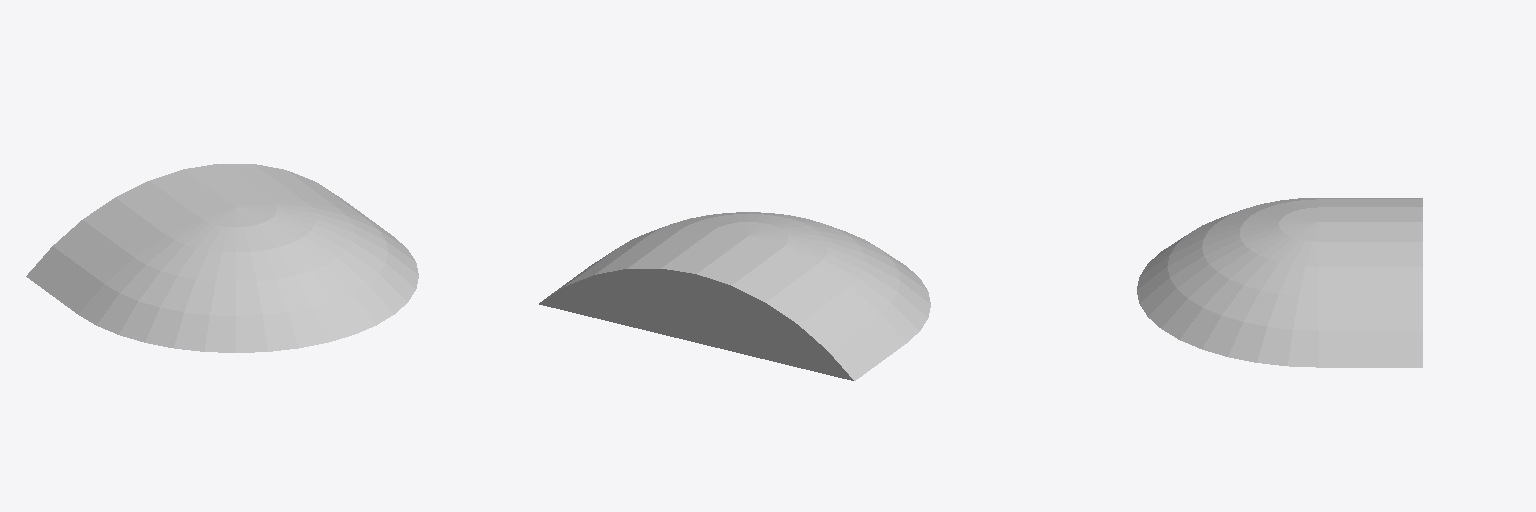
Rendered from arch_02.obj.
The picture shows the model from 3 angles: view 1: azimuth 30°, elevation 25°; view 2: azimuth 150°, elevation 25°; view 3: azimuth 270°, elevation 25°; orthographic projection.
Visible parts, largest first — view 1: Round_Arch_Sphere; view 2: Round_Arch_Sphere; view 3: Round_Arch_Sphere.
Part boxes in pixels (bbox=[...]): Round_Arch_Sphere: bbox=[26, 164, 418, 352]; Round_Arch_Sphere: bbox=[539, 212, 930, 380]; Round_Arch_Sphere: bbox=[1137, 198, 1422, 367].
Bounding box in the file's own units: 1.41 × 0.2929 × 1.11.